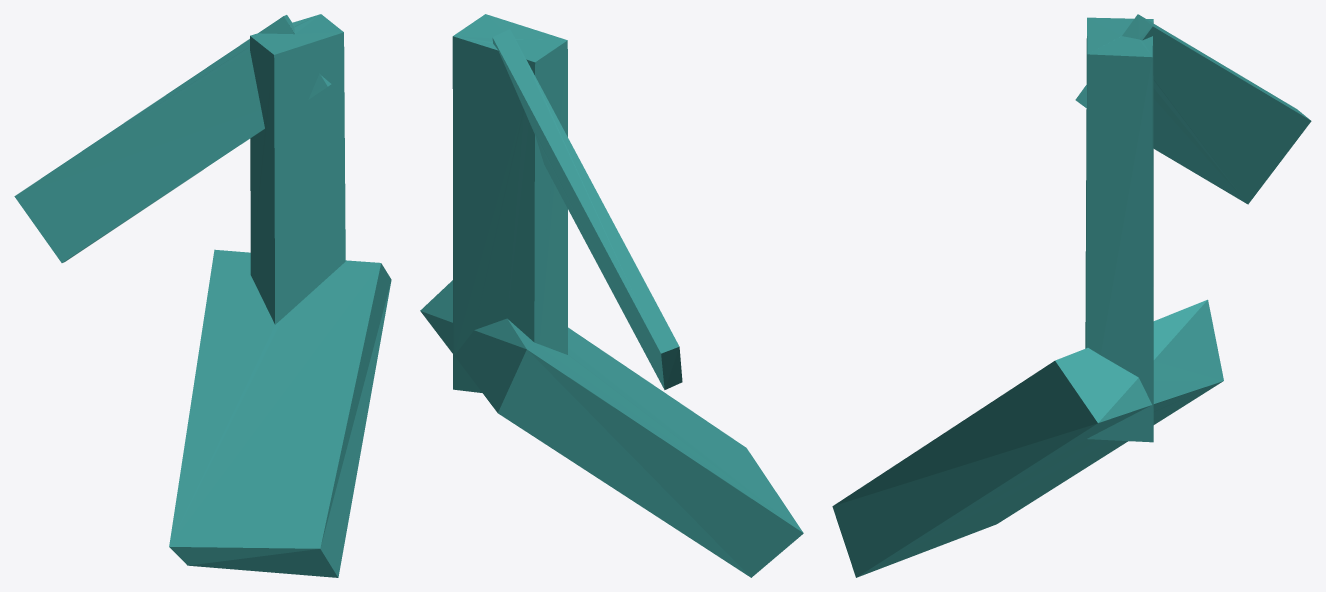
3 views of the same model, side by side, from view 1: azimuth 30°, elevation 25°; view 2: azimuth 150°, elevation 25°; view 3: azimuth 270°, elevation 25° (orthographic). The views are drawn at different scales.
Visible parts, largest first — view 1: 486_Cube.1972; view 2: 486_Cube.1972; view 3: 486_Cube.1972.
Part boxes in pixels (x1,y1,x2,y2): 486_Cube.1972: [14, 14, 391, 577]; 486_Cube.1972: [420, 14, 803, 577]; 486_Cube.1972: [832, 14, 1311, 577].
Bounding box in the file's own units: 12.68 × 19.13 × 13.74.
